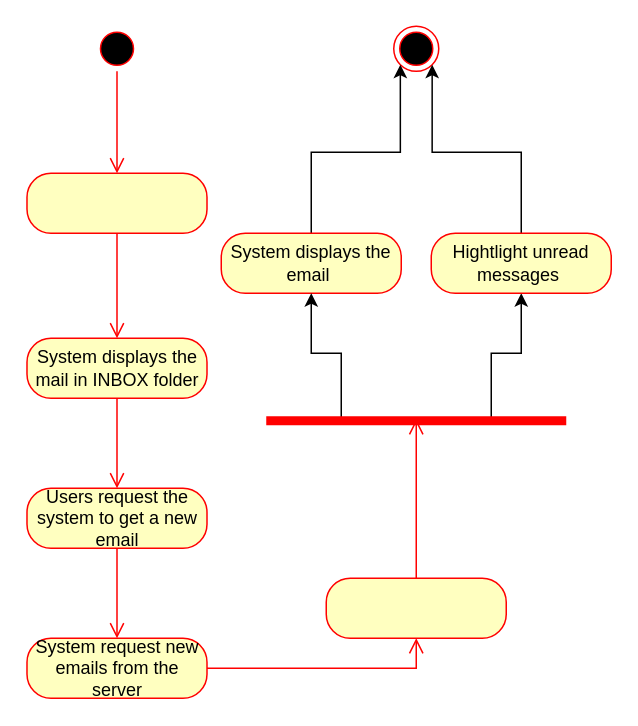
Some shapes in this 638 by 726 pixel diagram are drawn without their labels. Each missing label, with the box of its shape:
Server returns new email to the system: (325, 577, 506, 638)
Users log in to the email system: (26, 172, 207, 233)
